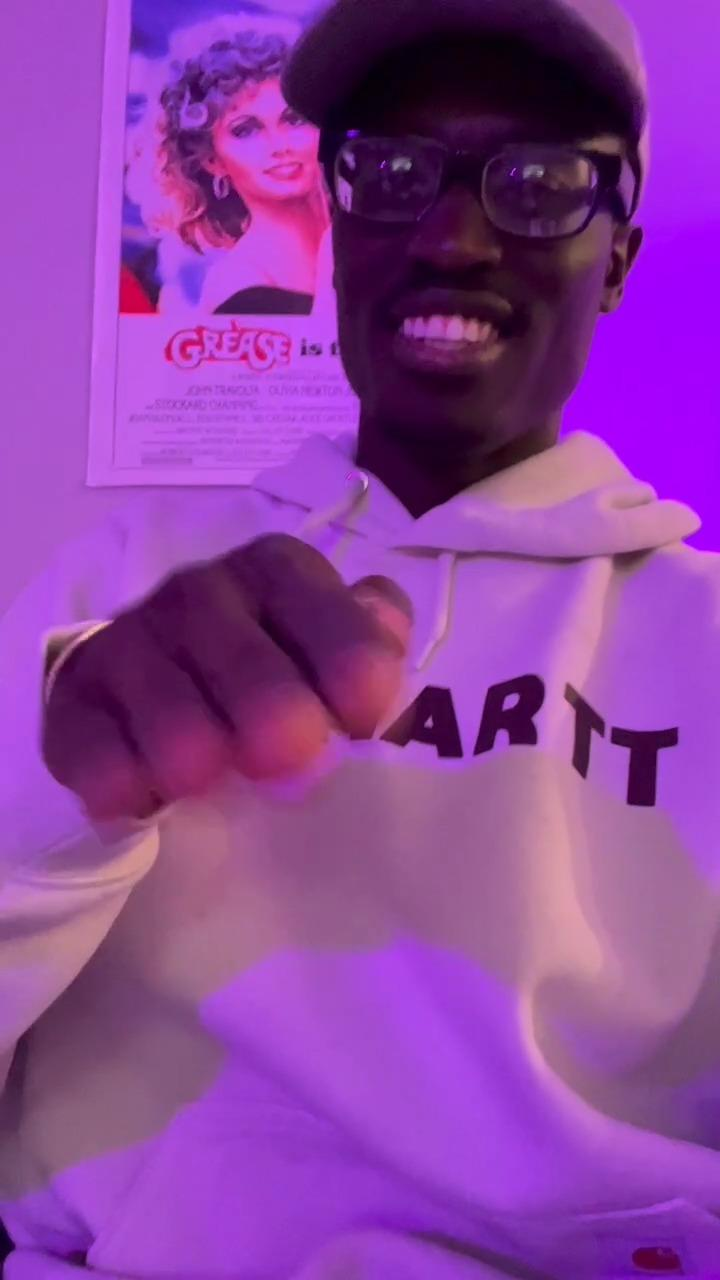Paper: (46, 530, 411, 832)
